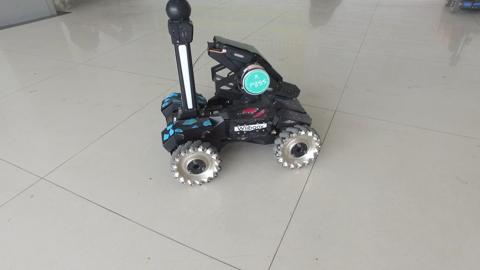chariot: (158, 1, 322, 186)
